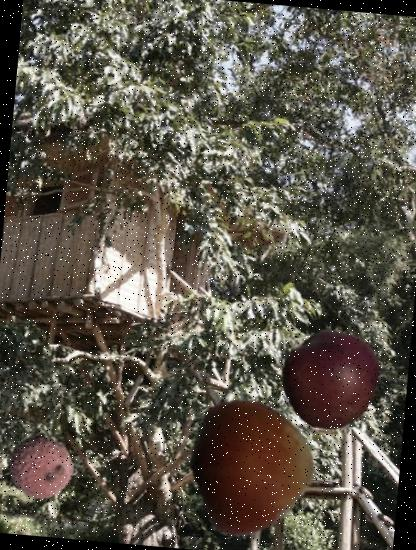Lychee: (5, 431, 78, 504)
Nectarine: (274, 324, 385, 434)
Nut: (176, 389, 326, 538)
